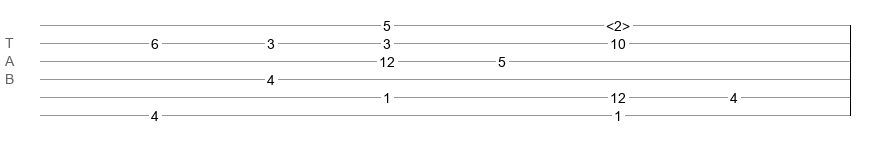1: (383, 90, 391, 100), (614, 108, 622, 118)
10: (610, 36, 626, 46)
12: (379, 54, 395, 64), (610, 90, 626, 100)
3: (267, 36, 275, 46), (383, 36, 391, 46)
4: (151, 108, 159, 118), (267, 72, 275, 82), (730, 90, 738, 100)
5: (383, 18, 391, 28), (498, 54, 506, 64)
6: (151, 36, 159, 46)
harmonic: (606, 18, 630, 28)
